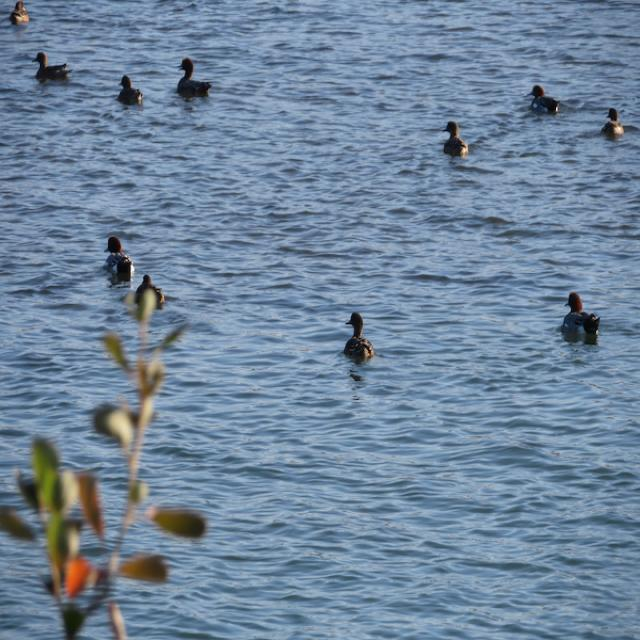bird: (557, 290, 602, 339), (338, 312, 378, 364), (174, 55, 216, 100), (100, 233, 136, 284), (29, 50, 73, 86), (591, 107, 626, 143), (528, 84, 565, 118), (130, 273, 170, 302), (440, 121, 470, 156), (114, 76, 144, 106), (1, 1, 31, 28)
